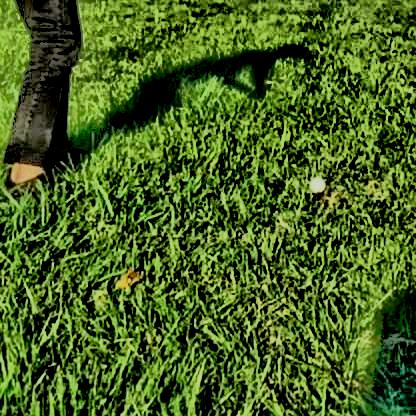golfball: (304, 173, 323, 192)
